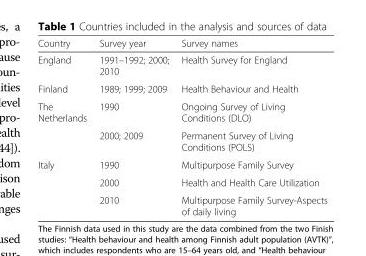table: (37, 37, 326, 216)
table column: (174, 37, 326, 216), (92, 37, 174, 216), (37, 37, 92, 216)
table column header: (37, 37, 326, 51)
table row: (37, 97, 326, 126), (37, 126, 326, 155), (37, 51, 326, 79), (37, 190, 326, 216), (37, 79, 326, 97), (37, 155, 326, 173), (37, 173, 326, 190), (37, 37, 326, 51)
table spanning cell: (37, 155, 92, 216), (37, 97, 92, 155)
